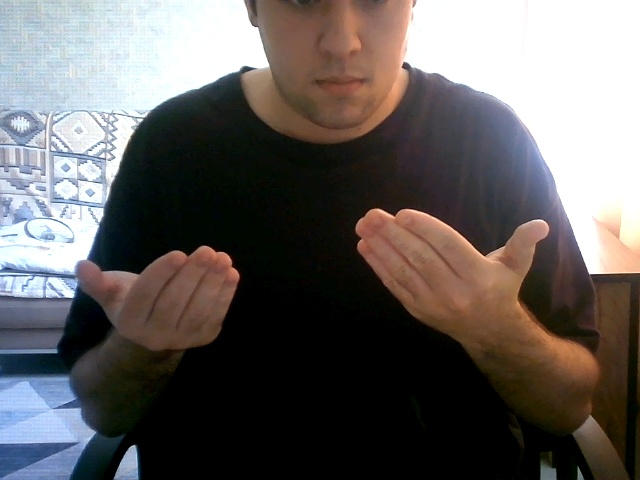hello: (54, 173, 580, 384)
